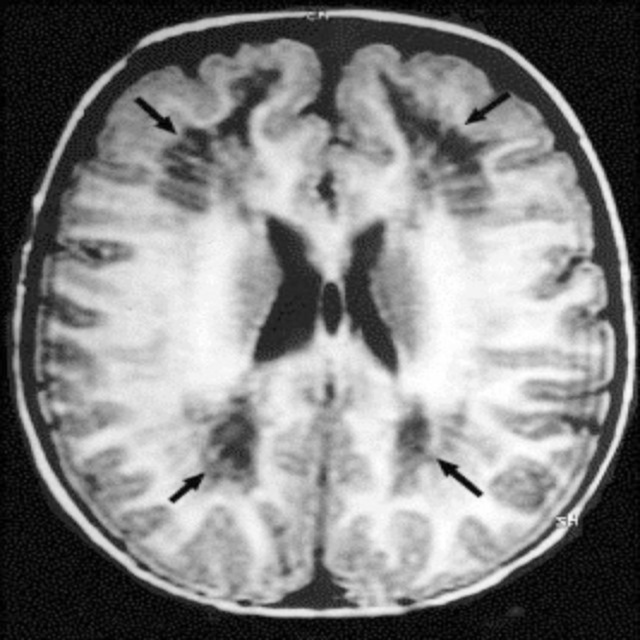glioma tumor: (118, 70, 522, 539)
